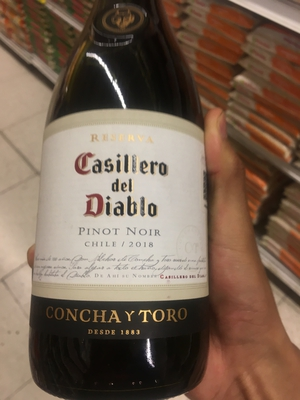casillero del diablo pinot noir: (30, 16, 221, 400)
